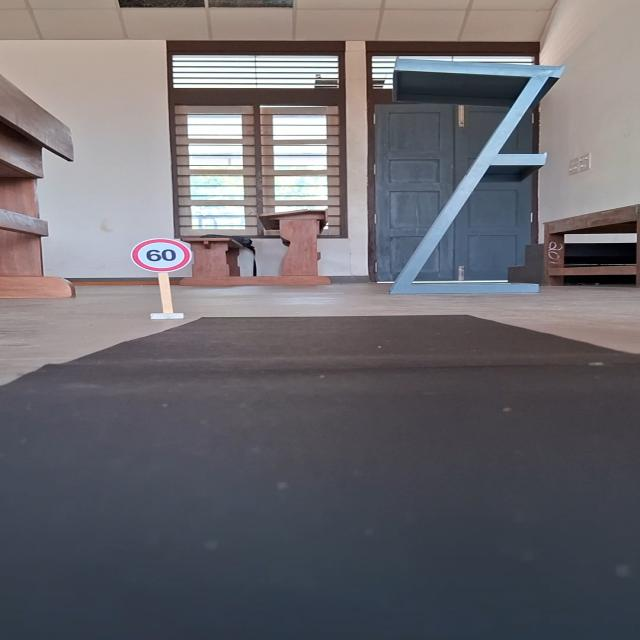Speed60: (130, 236, 193, 274)
